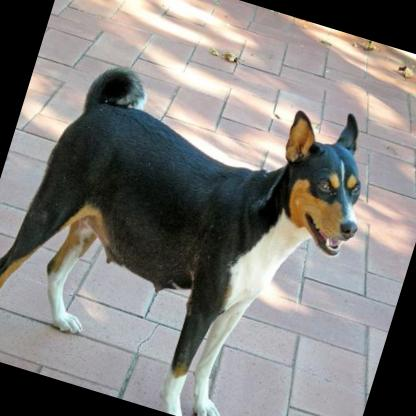basenji: (0, 8, 395, 416)
